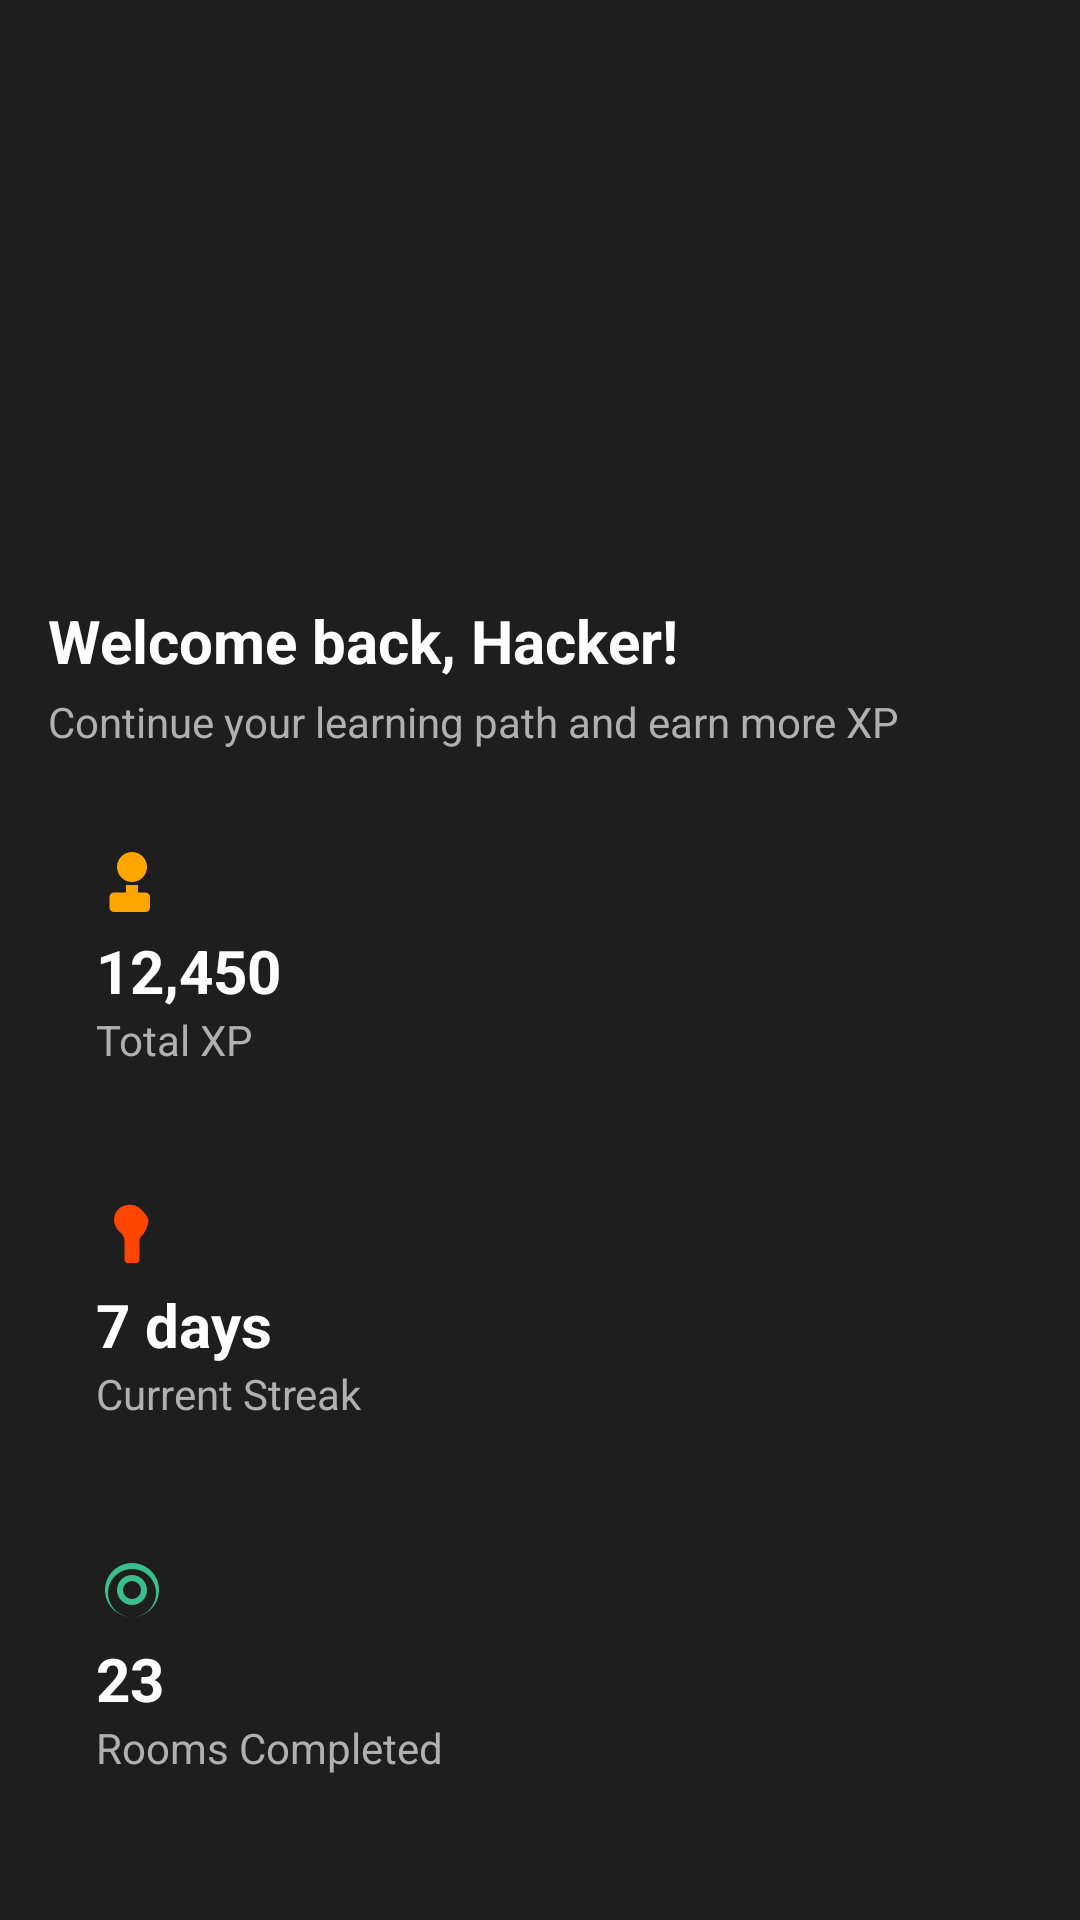

Where to tap for icons on this 1080 x 1920 app screen, as [x,y]:
target: [132,1589]
trophy: [129,882]
